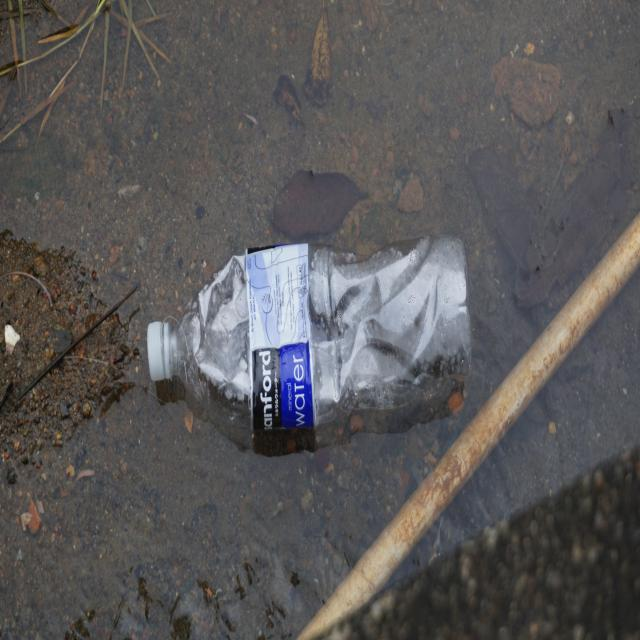Botol Plastik: (138, 230, 473, 439)
